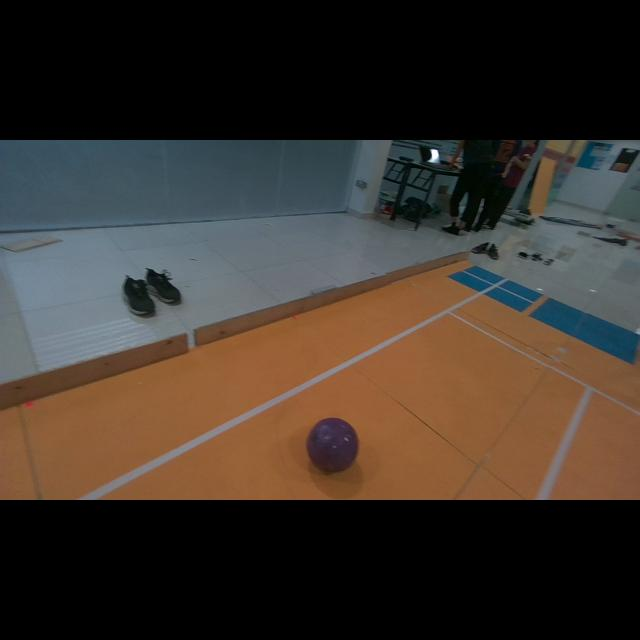P: (306, 418, 358, 472)
